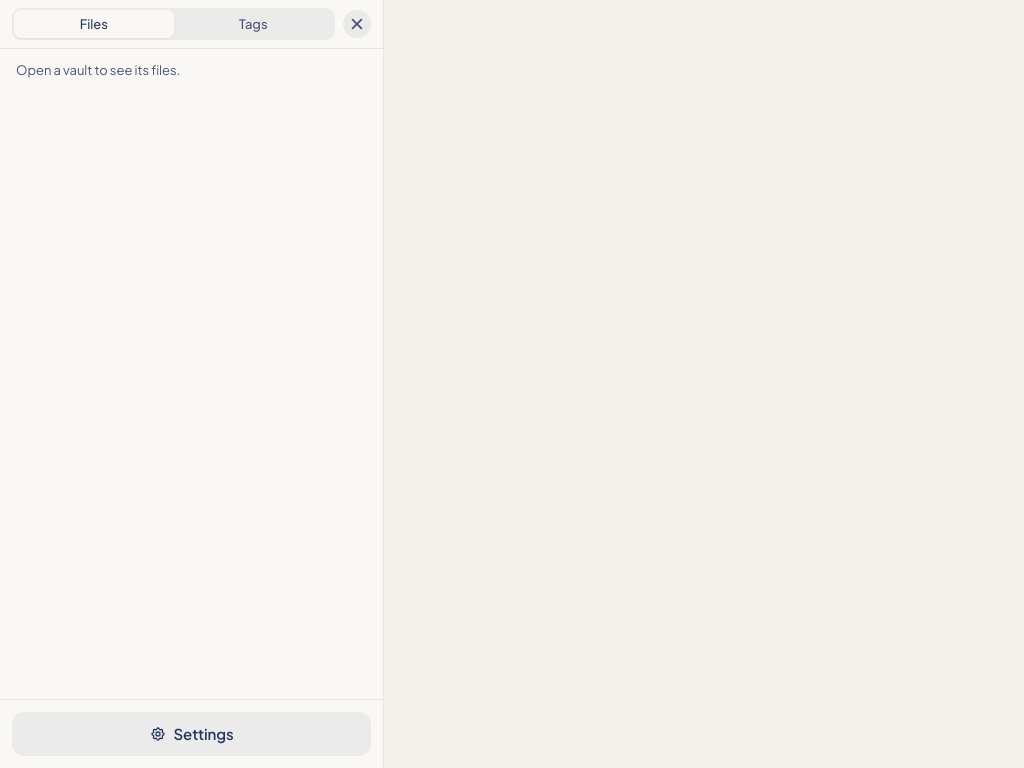
MobileDrawer › switches between Files and Tags
The width and height of the screenshot is (1024, 768).
Click the tab "Tags".
click(253, 24)  # box [174,10,333,38]
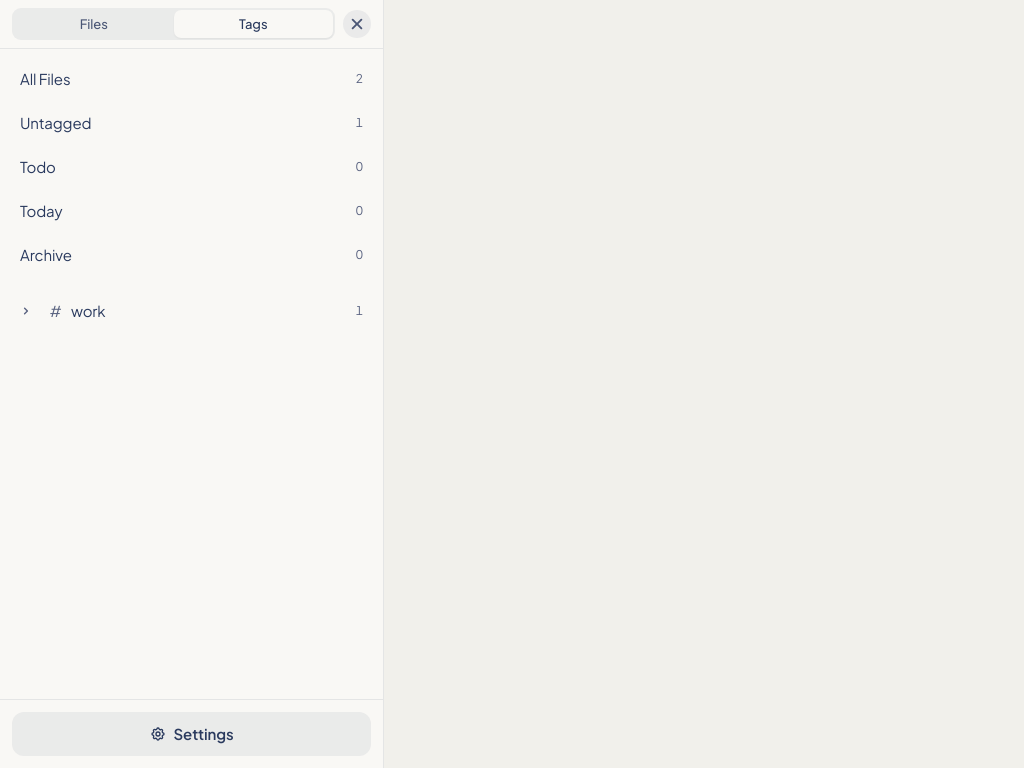
Expected: the panel named "Tags" is shown, [0,49,383,341]
